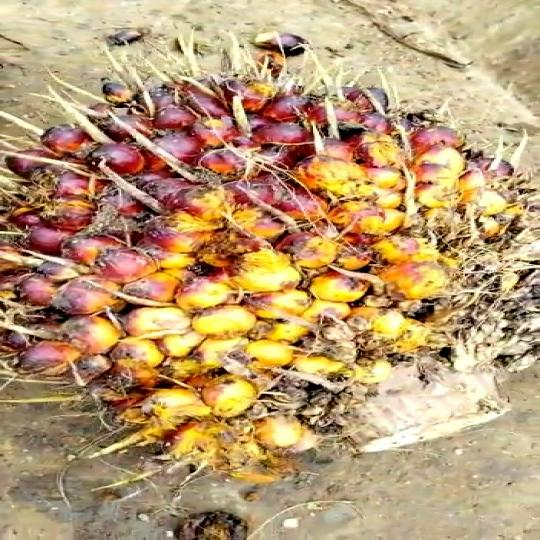masak: (0, 67, 540, 503)
